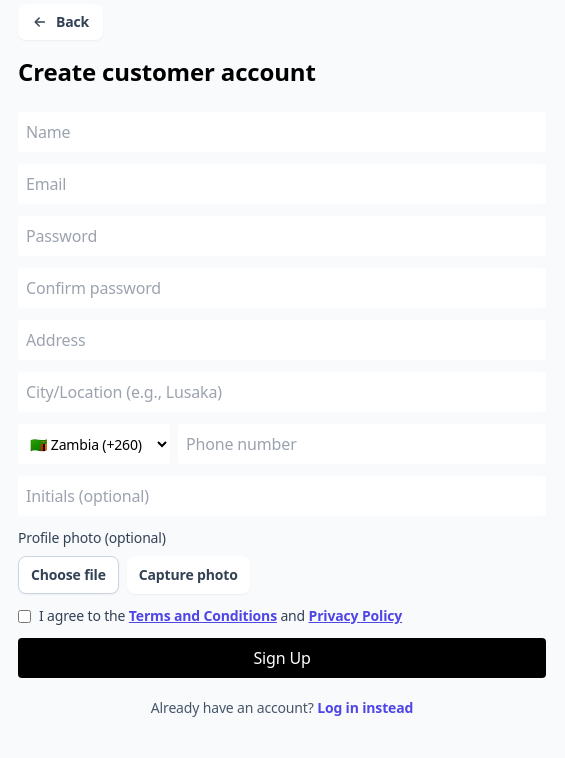
Test: Signing up as a shopper › nothing is sent without agreeing to the terms
The image size is (565, 758).
In the field labelled "Name": (282, 132) [18, 112, 546, 152], type "Chanda Banda"
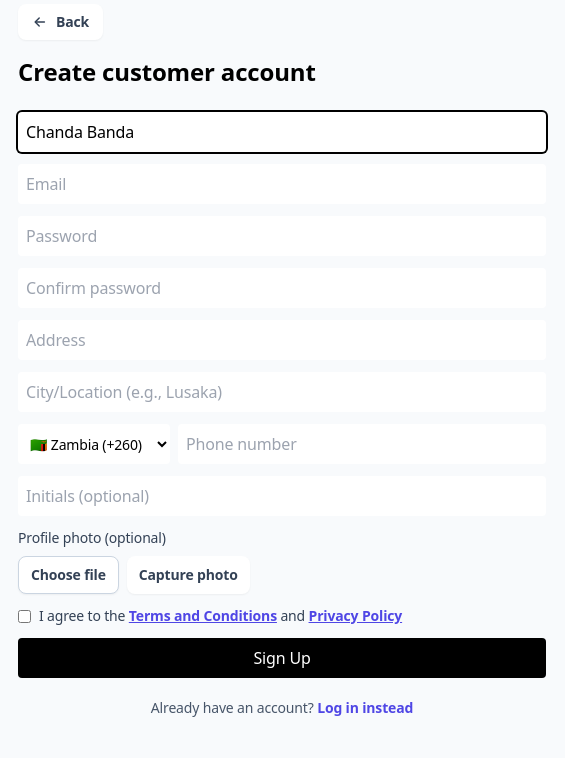
In the field labelled "Email": (282, 184) [18, 164, 546, 204], type "chanda@example.com"
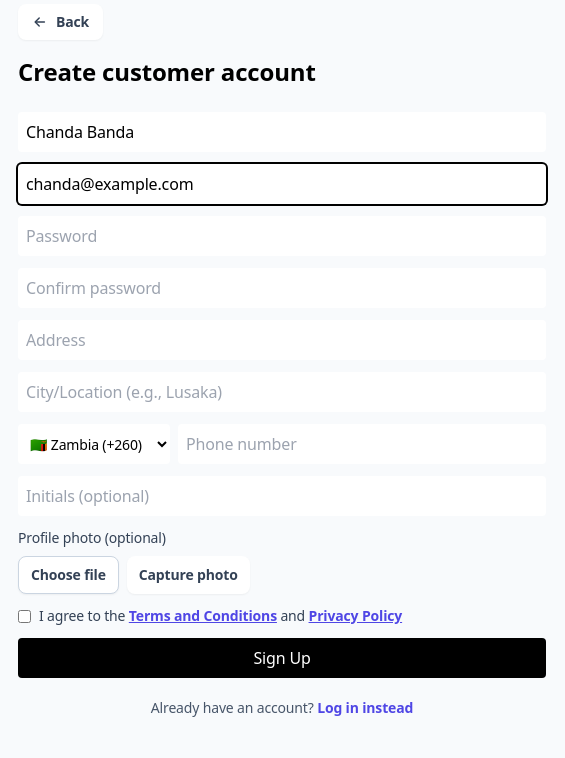
In the password field labelled "Password": (282, 236) [18, 216, 546, 256], type "Secret123"
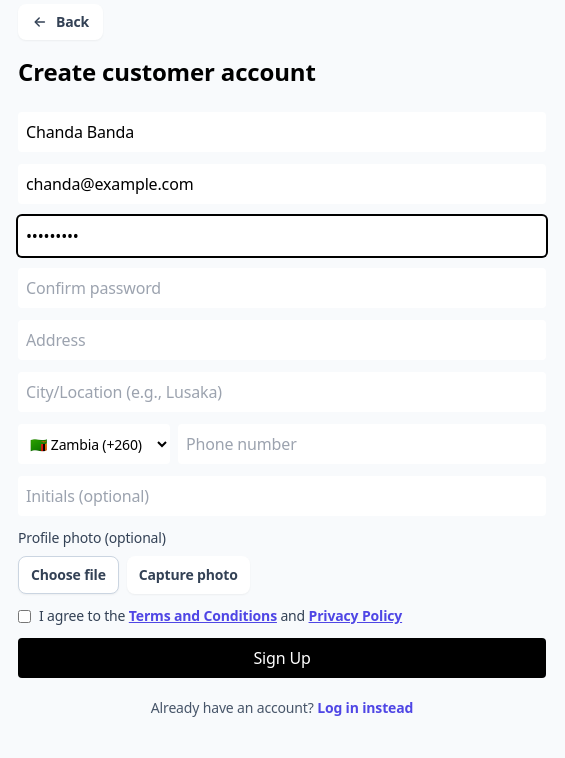
In the password field labelled "Confirm password": (282, 288) [18, 268, 546, 308], type "Secret123"
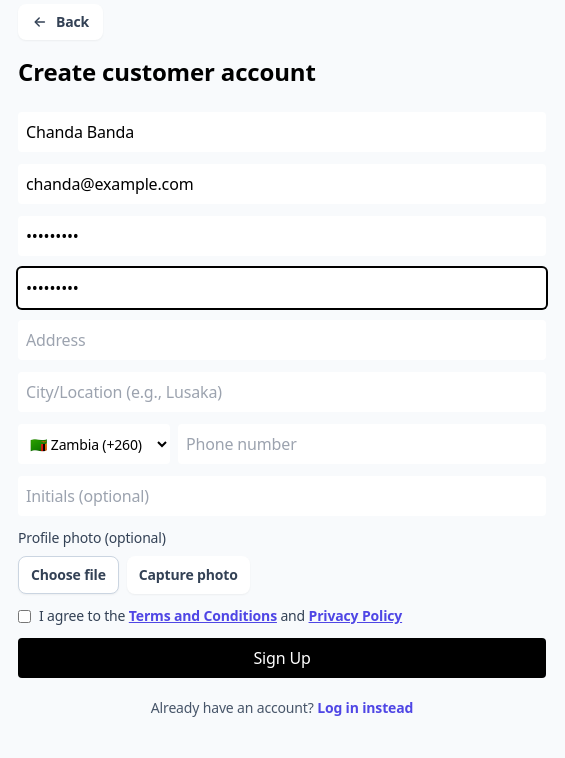
Click the button "Sign Up": (282, 658) [18, 638, 546, 678]
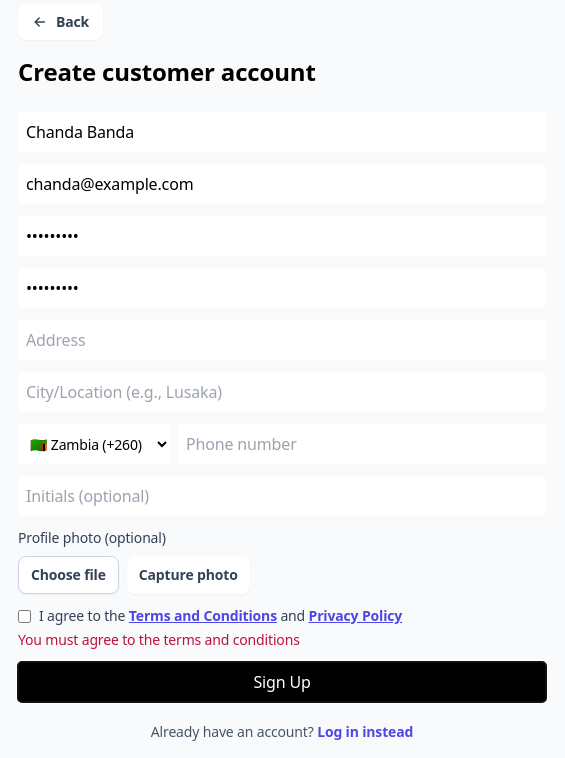
Expected: the text "You must agree to the terms and conditions" is shown, [18, 630, 300, 649]
